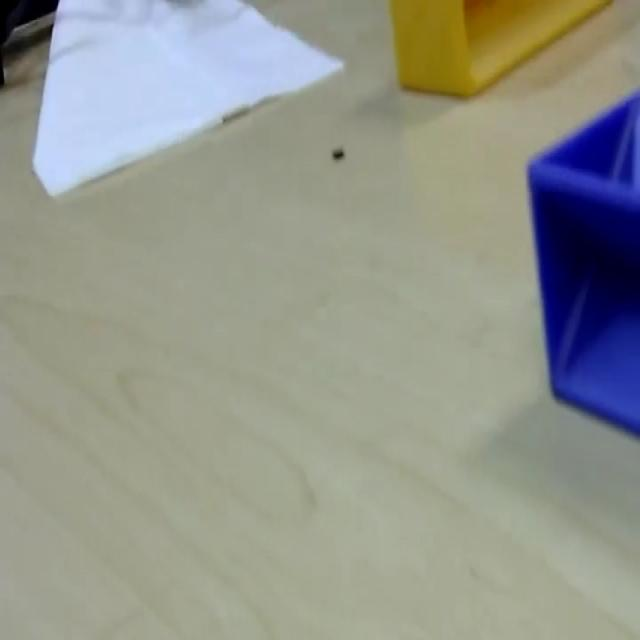blue_block: (525, 85, 639, 436)
yellow_block: (388, 0, 613, 97)
